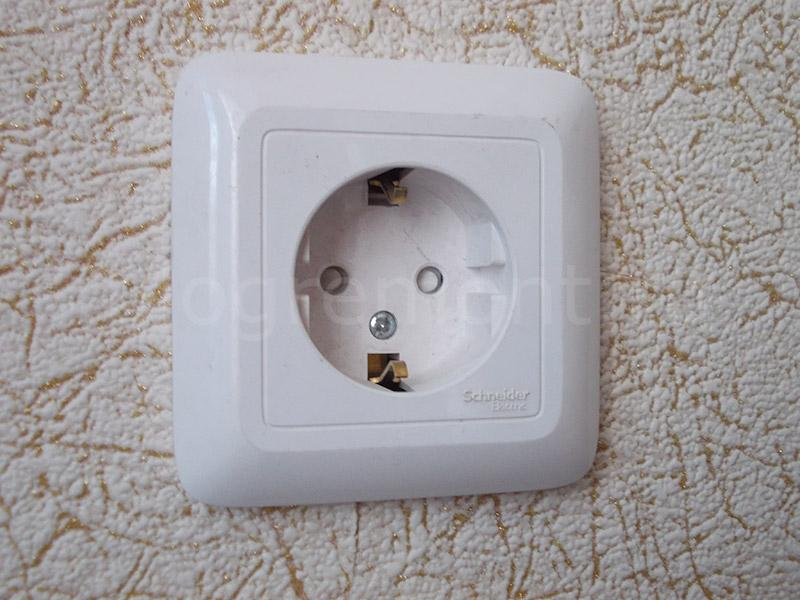raccoon: (289, 155, 517, 402)
